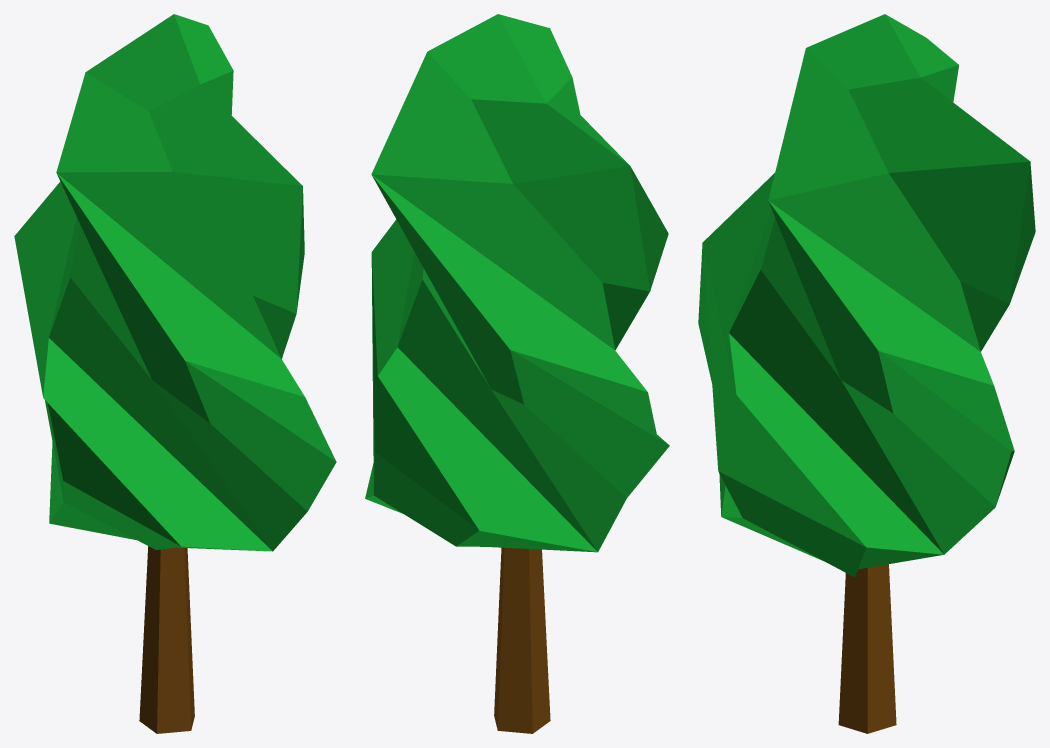
Rendered from Tree003.FBX.
3 views of the same model, side by side, from view 1: azimuth 30°, elevation 25°; view 2: azimuth 150°, elevation 25°; view 3: azimuth 270°, elevation 25° (orthographic). The views are drawn at different scales.
Visible parts, largest first — view 1: tree003; view 2: tree003; view 3: tree003.
Boxes of the visible parts, bbox=[...] form: tree003: bbox=[14, 14, 336, 733]; tree003: bbox=[365, 14, 669, 733]; tree003: bbox=[698, 14, 1035, 733].
Bounding box in the file's own units: 49.22 × 123 × 52.68.
